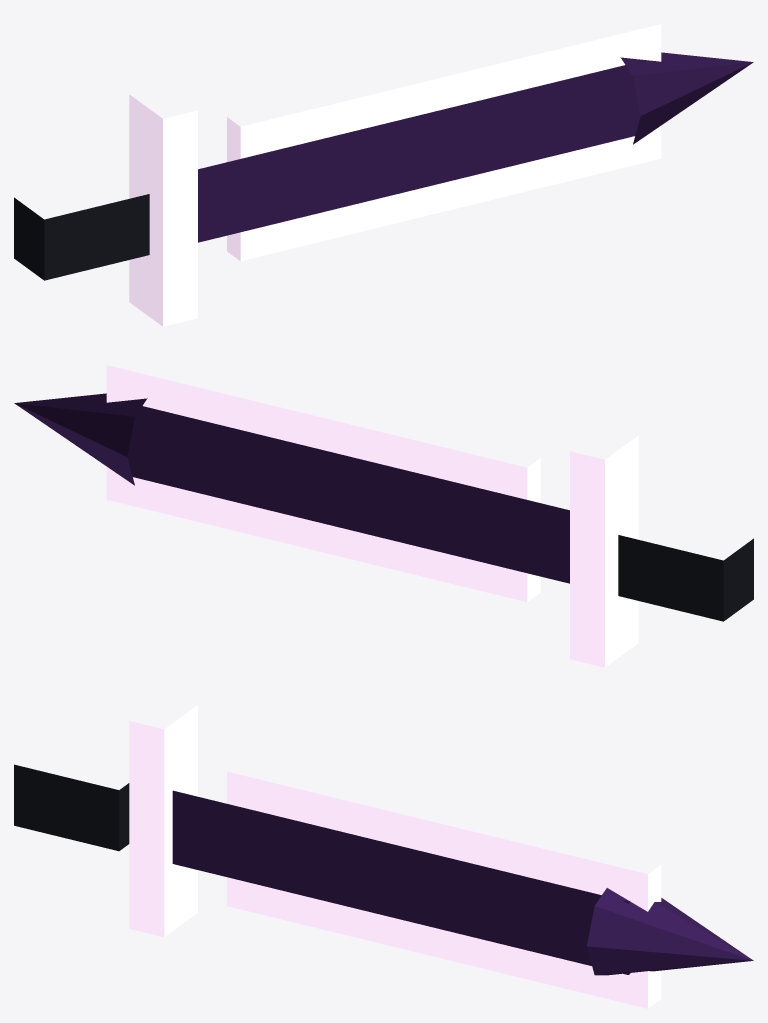
The model's file is templar-assassin.glb.
3 views of the same model, one above another, from view 1: azimuth 30°, elevation 25°; view 2: azimuth 150°, elevation 25°; view 3: azimuth 330°, elevation 25° (orthographic).
Visible parts, largest first — view 1: templar-assassin-blade, templar-assassin-glow, templar-assassin-guard, templar-assassin-grip, templar-assassin-tip; view 2: templar-assassin-blade, templar-assassin-glow, templar-assassin-guard, templar-assassin-grip, templar-assassin-tip; view 3: templar-assassin-blade, templar-assassin-glow, templar-assassin-guard, templar-assassin-tip, templar-assassin-grip.
Boxes of the visible parts, x1=… form: templar-assassin-blade: x1=198, y1=60, x2=645, y2=242; templar-assassin-glow: x1=227, y1=24, x2=661, y2=261; templar-assassin-guard: x1=129, y1=94, x2=197, y2=326; templar-assassin-grip: x1=14, y1=194, x2=149, y2=280; templar-assassin-tip: x1=620, y1=52, x2=753, y2=144; templar-assassin-blade: x1=122, y1=401, x2=569, y2=583; templar-assassin-glow: x1=106, y1=365, x2=540, y2=602; templar-assassin-guard: x1=570, y1=435, x2=638, y2=667; templar-assassin-grip: x1=618, y1=535, x2=753, y2=621; templar-assassin-tip: x1=14, y1=393, x2=147, y2=485; templar-assassin-blade: x1=172, y1=790, x2=630, y2=974; templar-assassin-glow: x1=227, y1=771, x2=661, y2=1008; templar-assassin-guard: x1=129, y1=705, x2=197, y2=937; templar-assassin-tip: x1=586, y1=888, x2=753, y2=975; templar-assassin-grip: x1=14, y1=764, x2=129, y2=851.
Bounding box in the file's own units: 1.24 × 0.34 × 0.16.
